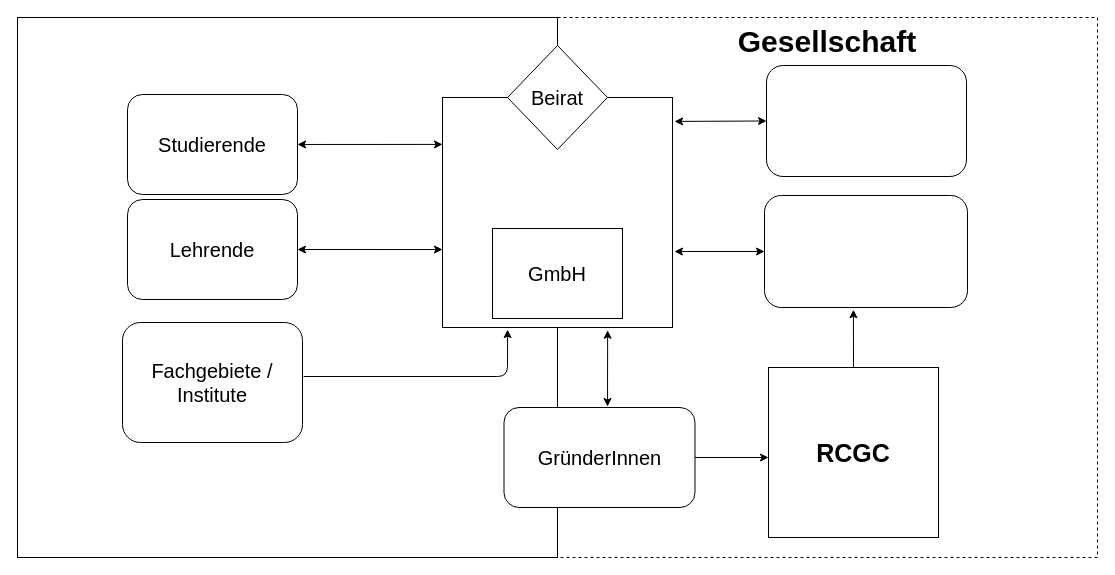
Image size: 1115x575. Some labels were removed from this diagram. Here are the shapes that lost their labels. From the top down, the box of each, then its label:
(766, 64, 966, 176): BürgerInnen
(442, 96, 672, 328): FabLab e.V.
(764, 194, 968, 308): KMU
(16, 16, 558, 558): BTU
